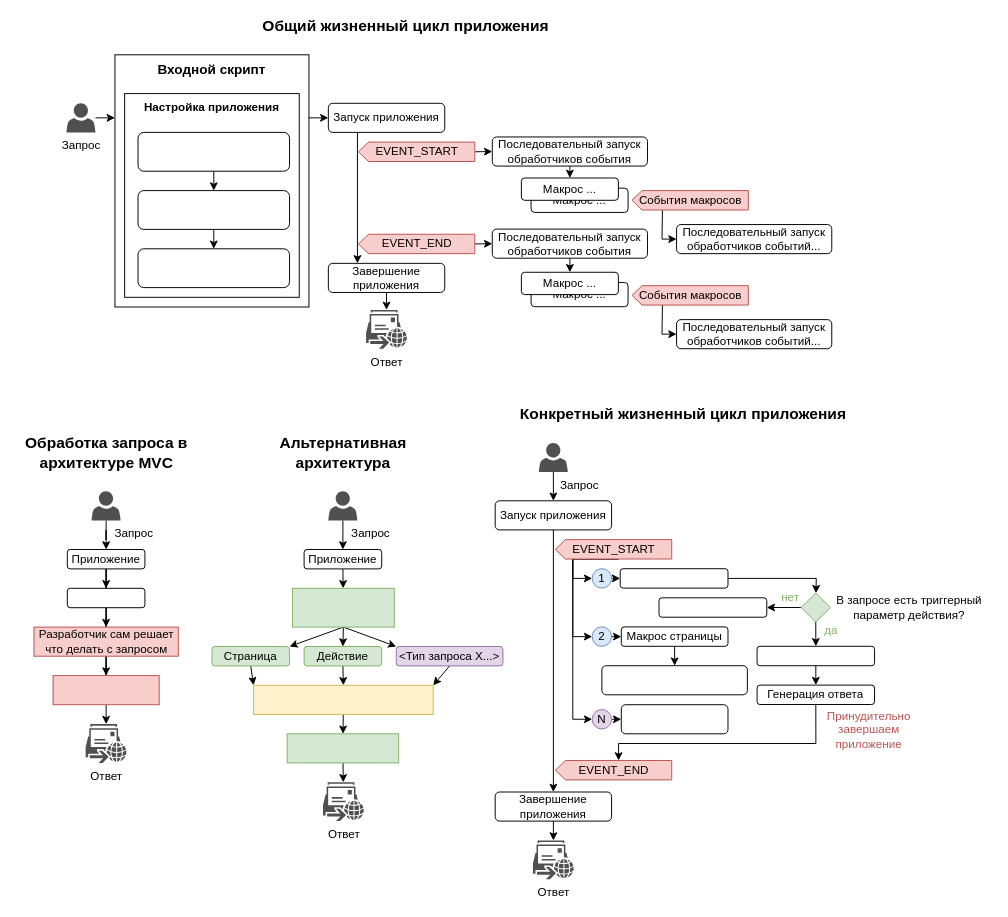
Image size: 1008x917. Some labels were removed from this diagram. The centre of each missing label's shape, as x and y in pixels:
"Контроллер" belongs at point (105, 597).
"Макрос действия" belongs at point (673, 578).
"Макрос обарботки типа запроса Х" belongs at point (674, 719).
"Ничего не делать" belongs at point (712, 607).
"Обработка действия" belongs at point (815, 655).
"Ответ генерируется автоматически" belongs at point (342, 748).
"Разработчик определяет только конкретную часть ответа" belongs at point (343, 699).
"Разработчик сам генерирует ответ" belongs at point (105, 690).
"Рендеринг страницы в соответствии с запросом" belongs at point (674, 680).
"Создание экземпляра" belongs at point (213, 151).
"Установка и настройка драйверов/механизмов" belongs at point (213, 209).
"Установка обработчиков событий (макросов)" belongs at point (213, 268).
"Фреймворк сам определяет тип запроса" belongs at point (342, 607).
